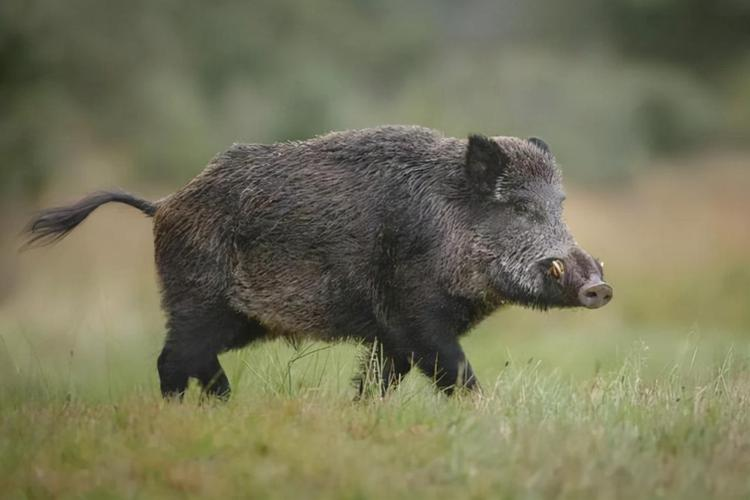boar: (30, 119, 624, 416)
